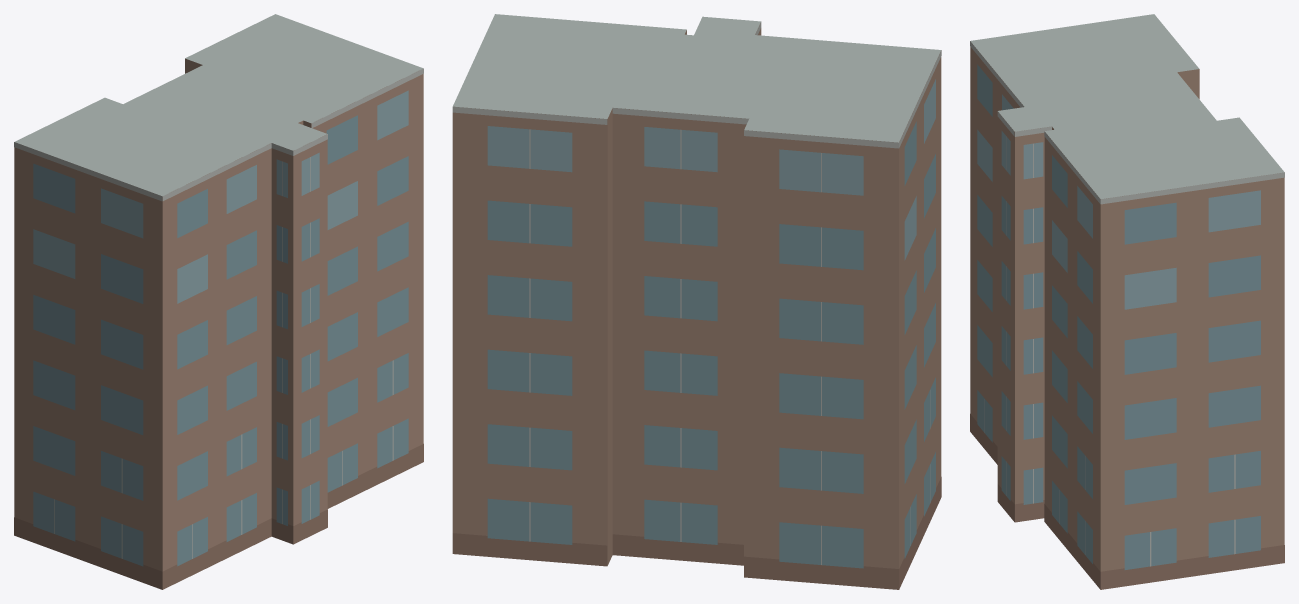
Rendered from survey-upis-32926586.glb.
The picture shows the model from 3 angles, left to right: view 1: azimuth 30°, elevation 25°; view 2: azimuth 150°, elevation 25°; view 3: azimuth 270°, elevation 25°; orthographic projection. The views are drawn at different scales.
Visible parts, largest first — view 1: survey-upis-32926586.tmp; view 2: survey-upis-32926586.tmp; view 3: survey-upis-32926586.tmp.
Boxes of the visible parts, <box> form: survey-upis-32926586.tmp: <box>14,14,423,589</box>; survey-upis-32926586.tmp: <box>452,14,941,589</box>; survey-upis-32926586.tmp: <box>970,14,1284,589</box>.
Bounding box in the file's own units: 18.62 × 18.3 × 13.37.
